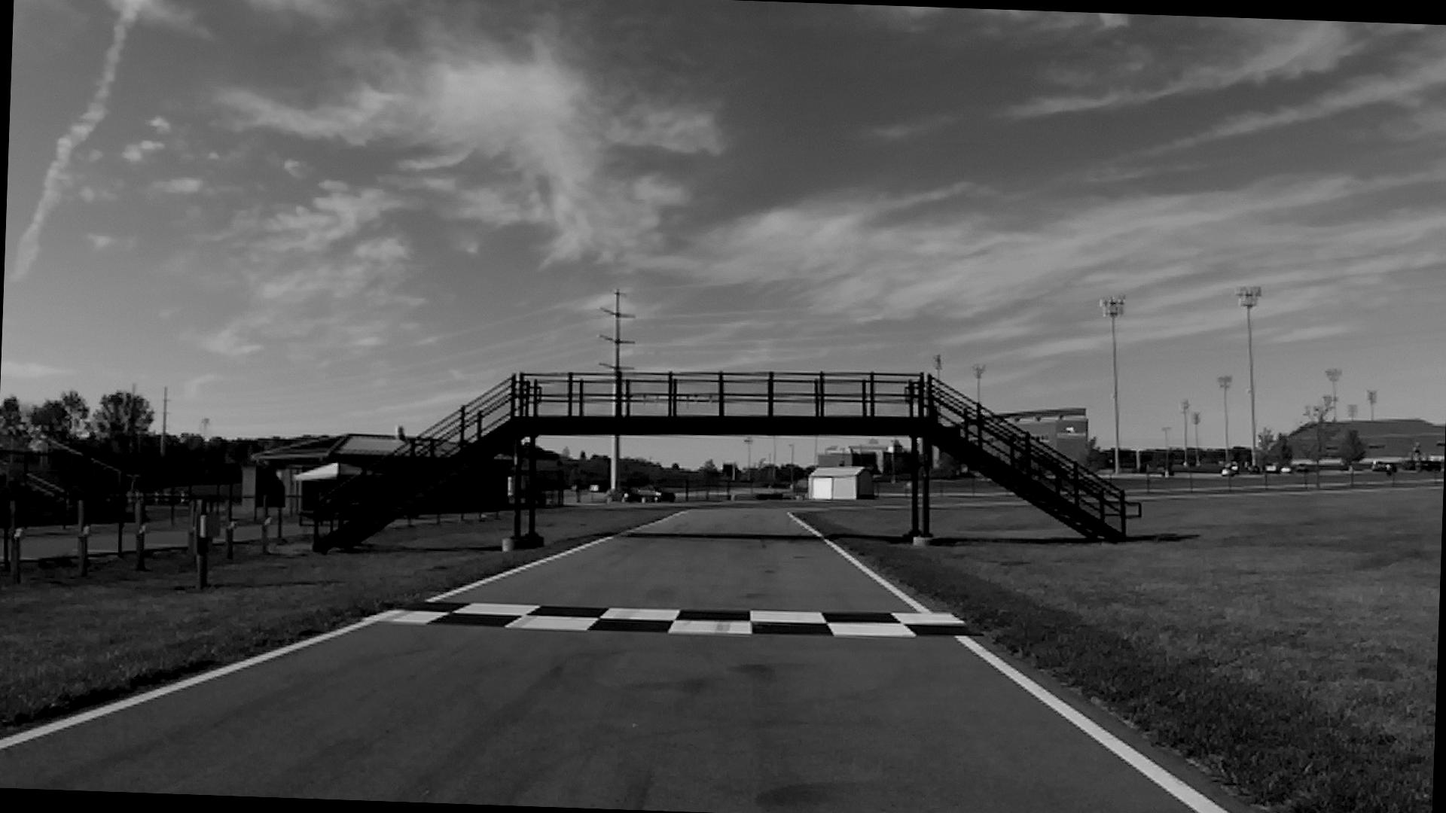white-line: (0, 609, 403, 751), (956, 635, 1232, 813), (789, 511, 934, 613), (427, 536, 615, 600)
